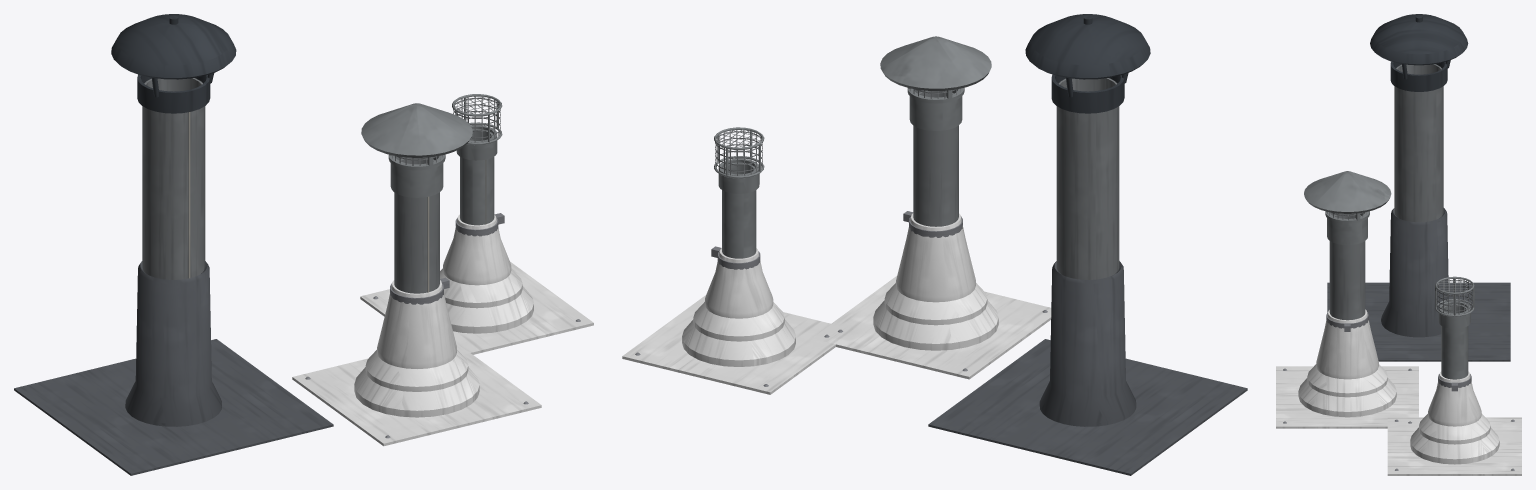
File: relief_vent.glb
The picture shows the model from 3 angles, left to right: view 1: azimuth 30°, elevation 25°; view 2: azimuth 150°, elevation 25°; view 3: azimuth 270°, elevation 25°; orthographic projection. The views are drawn at different scales.
Parts seen in each view (by area): view 1: flashing_a_lead_flashing_0, boot_b_epdm_black_0, boot_c_epdm_black_0, pipe_a_pvc_grey_0, cap_a_powder_anthracite_0, cap_b_steel_galvanised_0, pipe_b_pvc_grey_0, pipe_c_steel_galvanised_0, cap_c_steel_galvanised_0, cap_c_wire_mesh_1; view 2: flashing_a_lead_flashing_0, boot_b_epdm_black_0, boot_c_epdm_black_0, pipe_a_pvc_grey_0, cap_a_powder_anthracite_0, cap_b_steel_galvanised_0, pipe_b_pvc_grey_0, pipe_c_steel_galvanised_0, cap_c_steel_galvanised_0, cap_c_wire_mesh_1; view 3: flashing_a_lead_flashing_0, boot_b_epdm_black_0, boot_c_epdm_black_0, pipe_a_pvc_grey_0, cap_a_powder_anthracite_0, cap_b_steel_galvanised_0, pipe_b_pvc_grey_0, pipe_c_steel_galvanised_0, cap_c_steel_galvanised_0, cap_c_wire_mesh_1, boot_b_steel_brushed_1, boot_c_steel_brushed_1.
Part boxes in pixels (x1,y1,x2,y2): flashing_a_lead_flashing_0: [14, 261, 333, 475]; boot_b_epdm_black_0: [292, 280, 541, 446]; boot_c_epdm_black_0: [360, 214, 593, 354]; pipe_a_pvc_grey_0: [142, 78, 205, 279]; cap_a_powder_anthracite_0: [111, 14, 236, 113]; cap_b_steel_galvanised_0: [361, 103, 472, 197]; pipe_b_pvc_grey_0: [394, 157, 439, 293]; pipe_c_steel_galvanised_0: [460, 129, 494, 225]; cap_c_steel_galvanised_0: [452, 94, 502, 160]; cap_c_wire_mesh_1: [453, 96, 500, 142]; flashing_a_lead_flashing_0: [928, 261, 1247, 475]; boot_b_epdm_black_0: [811, 213, 1051, 379]; boot_c_epdm_black_0: [622, 248, 852, 394]; pipe_a_pvc_grey_0: [1056, 78, 1119, 279]; cap_a_powder_anthracite_0: [1025, 14, 1150, 113]; cap_b_steel_galvanised_0: [880, 36, 991, 130]; pipe_b_pvc_grey_0: [913, 90, 958, 226]; pipe_c_steel_galvanised_0: [722, 162, 756, 258]; cap_c_steel_galvanised_0: [714, 127, 764, 193]; cap_c_wire_mesh_1: [715, 129, 762, 175]; flashing_a_lead_flashing_0: [1327, 208, 1510, 361]; boot_b_epdm_black_0: [1276, 309, 1418, 428]; boot_c_epdm_black_0: [1387, 371, 1521, 475]; pipe_a_pvc_grey_0: [1394, 64, 1443, 222]; cap_a_powder_anthracite_0: [1370, 14, 1468, 91]; cap_b_steel_galvanised_0: [1304, 171, 1391, 245]; pipe_b_pvc_grey_0: [1329, 213, 1365, 320]; pipe_c_steel_galvanised_0: [1441, 304, 1468, 379]; cap_c_steel_galvanised_0: [1435, 276, 1474, 328]; cap_c_wire_mesh_1: [1436, 278, 1473, 314]; boot_b_steel_brushed_1: [1283, 312, 1411, 423]; boot_c_steel_brushed_1: [1395, 374, 1514, 470].
Size of what is drawn, in the model's own units: 1.01 by 0.756 by 0.55.
10 materials, 10 textured.
